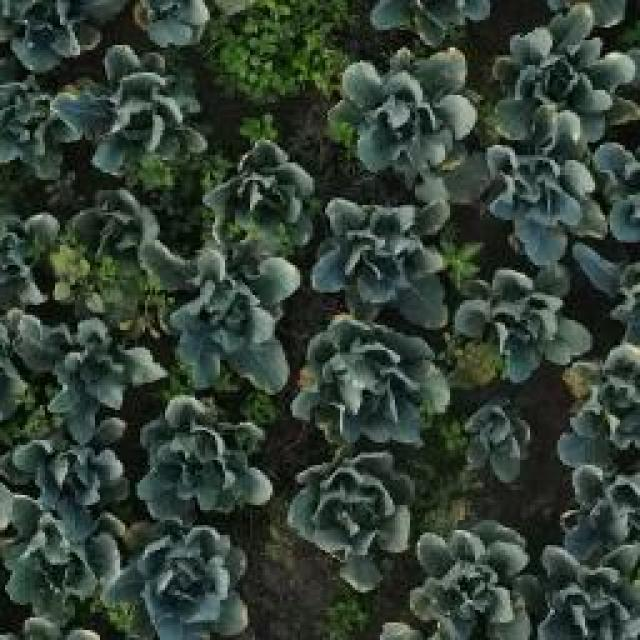cabbage: (296, 311, 452, 447), (66, 46, 209, 183), (170, 245, 299, 392), (338, 45, 474, 178), (288, 445, 410, 589), (496, 9, 628, 141), (112, 518, 250, 638), (139, 398, 276, 518), (17, 310, 166, 418), (316, 194, 444, 318), (407, 514, 531, 640), (456, 264, 589, 379), (484, 140, 606, 262), (0, 495, 126, 609), (7, 412, 131, 518), (208, 142, 318, 254), (536, 537, 639, 640), (60, 184, 173, 273), (0, 75, 82, 180), (464, 390, 540, 490), (558, 456, 640, 548), (0, 0, 98, 75)
